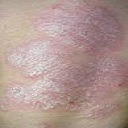Psoriasis: (12, 42, 120, 115), (40, 4, 119, 40)
